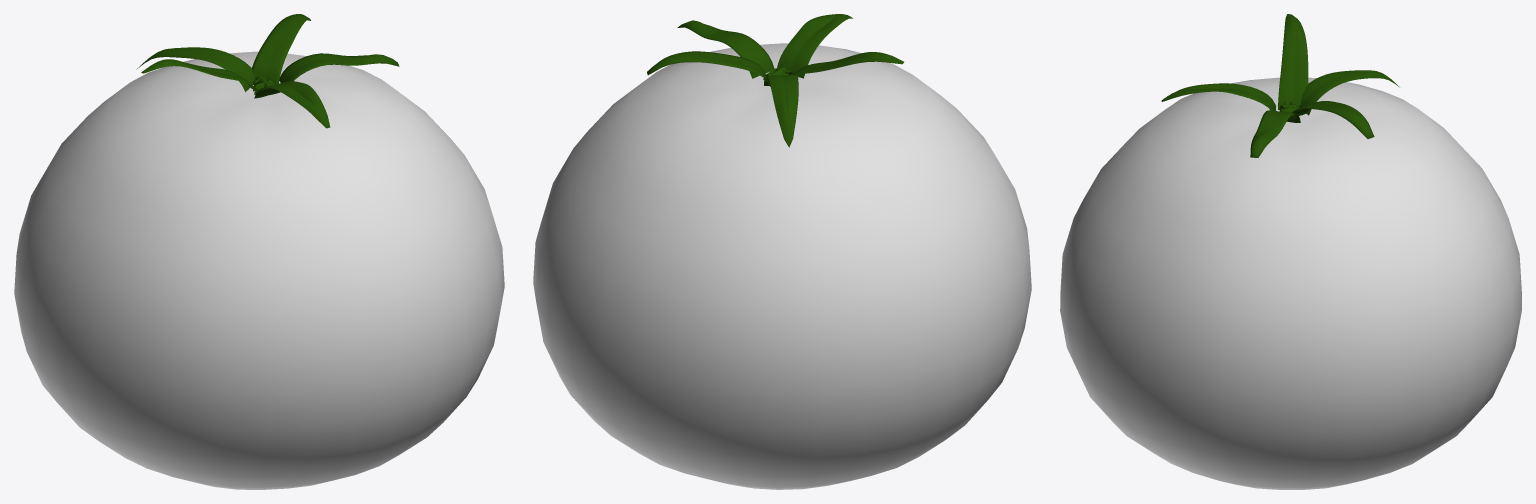
File: Tomatoo_MPI01_fbx.fbx
The picture shows the model from 3 angles, left to right: view 1: azimuth 30°, elevation 25°; view 2: azimuth 150°, elevation 25°; view 3: azimuth 270°, elevation 25°; orthographic projection. The views are drawn at different scales.
Visible parts, largest first — view 1: Plane; view 2: Plane; view 3: Plane.
Part boxes in pixels (x1,y1,x2,y2): Plane: (14,14,504,489); Plane: (533,14,1031,489); Plane: (1060,14,1521,489).
Bounding box in the file's own units: 6.51 × 5.99 × 6.53.
